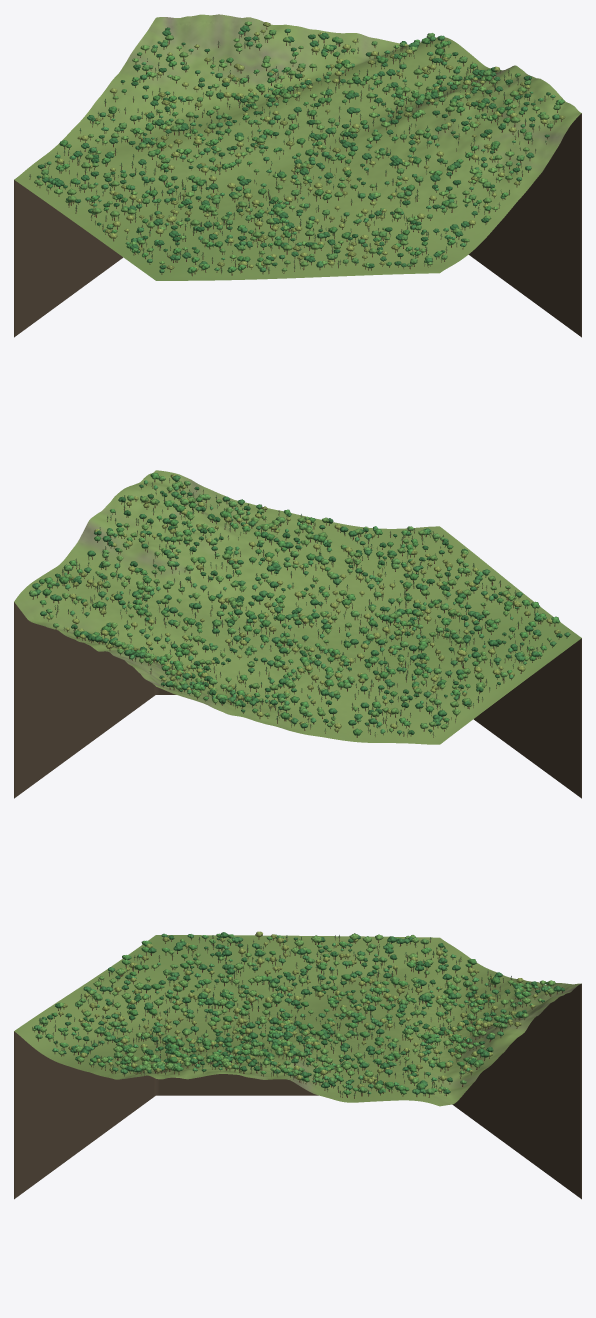
3 renders of one model, top to bottom at view 1: azimuth 30°, elevation 25°; view 2: azimuth 150°, elevation 25°; view 3: azimuth 270°, elevation 25°, orthographic.
Parts seen in each view (by area): view 1: terrain, broadleaf_canopy, hex_side_cut, trunks, conifer_canopy; view 2: terrain, broadleaf_canopy, hex_side_cut, trunks, conifer_canopy; view 3: terrain, broadleaf_canopy, hex_side_cut, trunks, conifer_canopy.
Part boxes in pixels (left/top/right/bottom): terrain: left=14, top=14, right=581, bottom=280; broadleaf_canopy: left=34, top=21, right=565, bottom=273; hex_side_cut: left=14, top=113, right=581, bottom=337; trunks: left=29, top=26, right=561, bottom=276; conifer_canopy: left=29, top=27, right=558, bottom=271; terrain: left=14, top=470, right=581, bottom=744; broadleaf_canopy: left=29, top=473, right=570, bottom=735; hex_side_cut: left=14, top=602, right=581, bottom=798; trunks: left=32, top=479, right=567, bottom=737; conifer_canopy: left=47, top=478, right=542, bottom=735; terrain: left=14, top=935, right=581, bottom=1106; broadleaf_canopy: left=32, top=931, right=564, bottom=1094; hex_side_cut: left=14, top=983, right=581, bottom=1199; trunks: left=32, top=935, right=562, bottom=1098; conifer_canopy: left=38, top=935, right=562, bottom=1095.
Size of the model in its own units: 4330 by 2264 by 5000.
6 materials, 1 textured.
